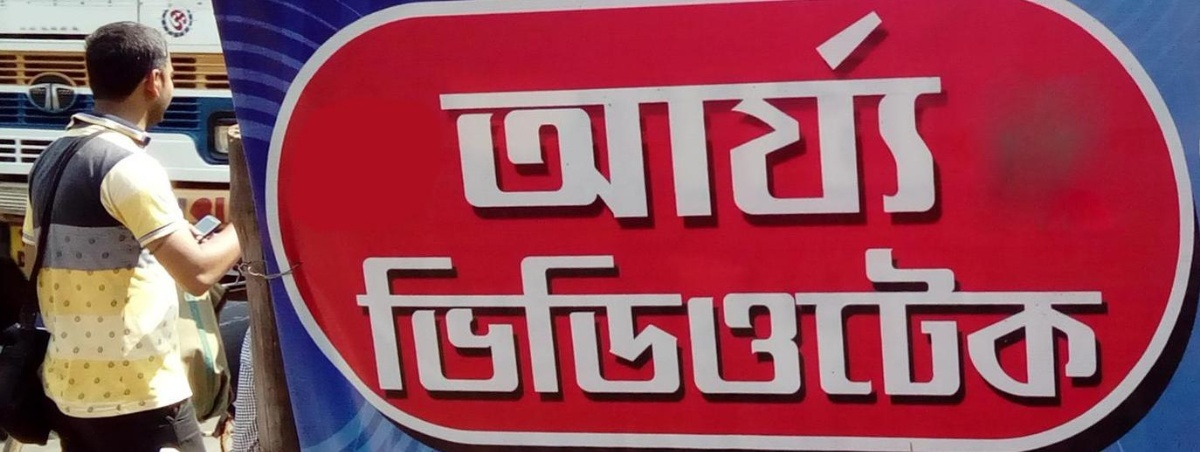text: (449, 7, 464, 230), (465, 7, 480, 230), (481, 7, 496, 230), (497, 7, 512, 230), (513, 7, 528, 230), (529, 7, 544, 230), (545, 7, 560, 230), (561, 7, 576, 230), (577, 7, 592, 230), (593, 7, 608, 230), (609, 7, 624, 230), (625, 7, 640, 230), (641, 7, 656, 230), (657, 7, 672, 230), (673, 7, 688, 230), (689, 7, 704, 230), (705, 7, 720, 230), (721, 7, 736, 230), (737, 7, 752, 230), (753, 7, 768, 230), (769, 7, 784, 230), (785, 7, 800, 230), (801, 7, 816, 230), (817, 7, 832, 230), (833, 7, 848, 230), (849, 7, 864, 230), (865, 7, 880, 230), (881, 7, 896, 230), (897, 7, 912, 230), (913, 7, 928, 230), (929, 7, 944, 230), (353, 244, 368, 408), (369, 244, 384, 408), (385, 244, 400, 408), (401, 244, 416, 408), (417, 244, 432, 408), (433, 244, 448, 408), (449, 244, 464, 408), (465, 244, 480, 408), (481, 244, 496, 408), (497, 244, 512, 408), (513, 244, 528, 408), (529, 244, 544, 408), (545, 244, 560, 408), (561, 244, 576, 408), (577, 244, 592, 408), (593, 244, 608, 408), (609, 244, 624, 408), (625, 244, 640, 408), (641, 244, 656, 408), (657, 244, 672, 408), (673, 244, 688, 408), (689, 244, 704, 408), (705, 244, 720, 408), (721, 244, 736, 408), (737, 244, 752, 408), (753, 244, 768, 408), (769, 244, 784, 408), (785, 244, 800, 408), (801, 244, 816, 408), (817, 244, 832, 408), (833, 244, 848, 408), (849, 244, 864, 408), (865, 244, 880, 408), (881, 244, 896, 408), (897, 244, 912, 408), (913, 244, 928, 408), (929, 244, 944, 408), (945, 244, 960, 408), (961, 244, 976, 408), (977, 244, 992, 408), (993, 244, 1008, 408), (1009, 244, 1024, 408), (1025, 244, 1040, 408), (1041, 244, 1056, 408), (1057, 244, 1072, 408), (1073, 244, 1088, 408), (1089, 244, 1104, 408), (438, 7, 448, 230), (945, 7, 953, 230), (1105, 244, 1109, 408), (351, 244, 352, 408)
